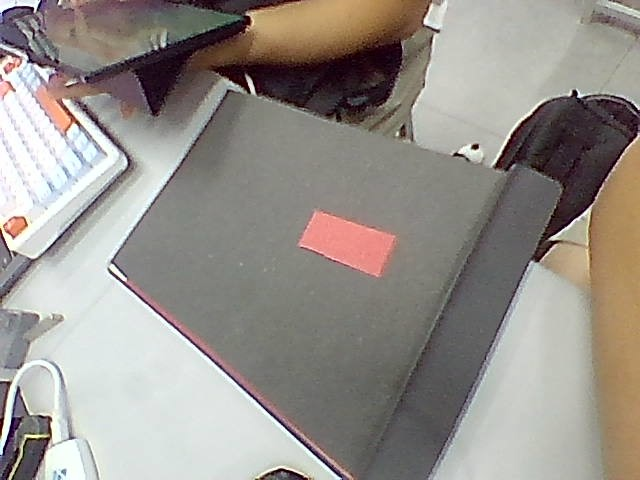card: (298, 210, 394, 277)
